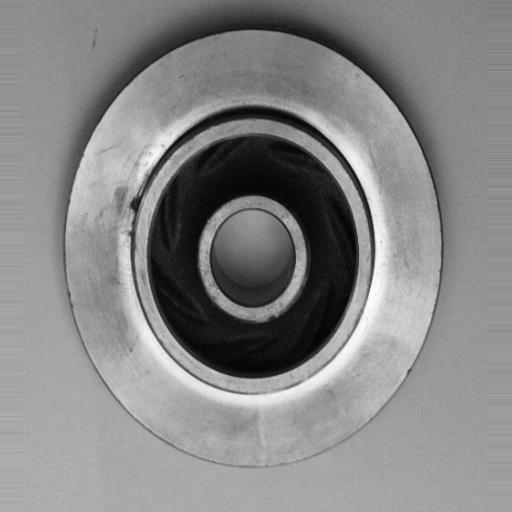crack: (122, 181, 151, 222)
unpolished_casting: (60, 27, 447, 471)
